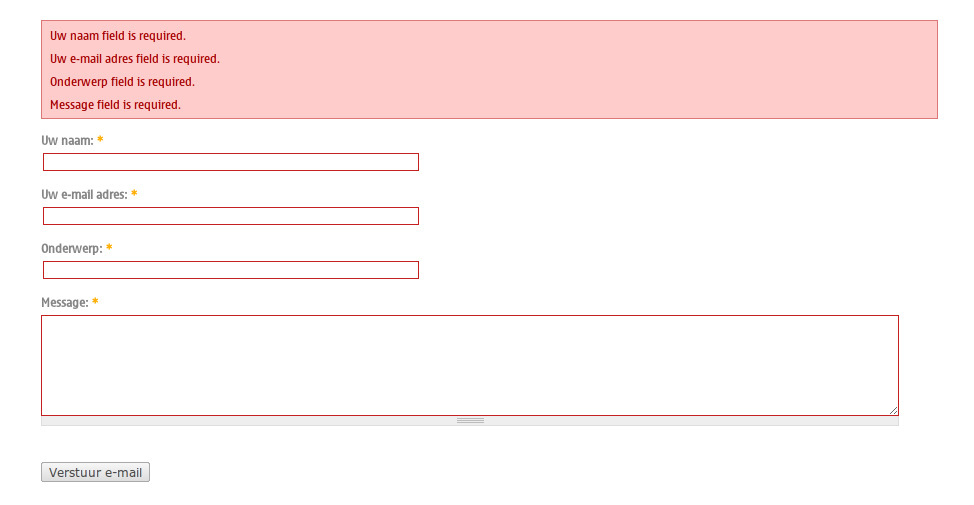error_field: (40, 312, 901, 416), (41, 152, 421, 173), (41, 259, 421, 280), (42, 207, 421, 226)
error_message: (49, 29, 222, 112)
